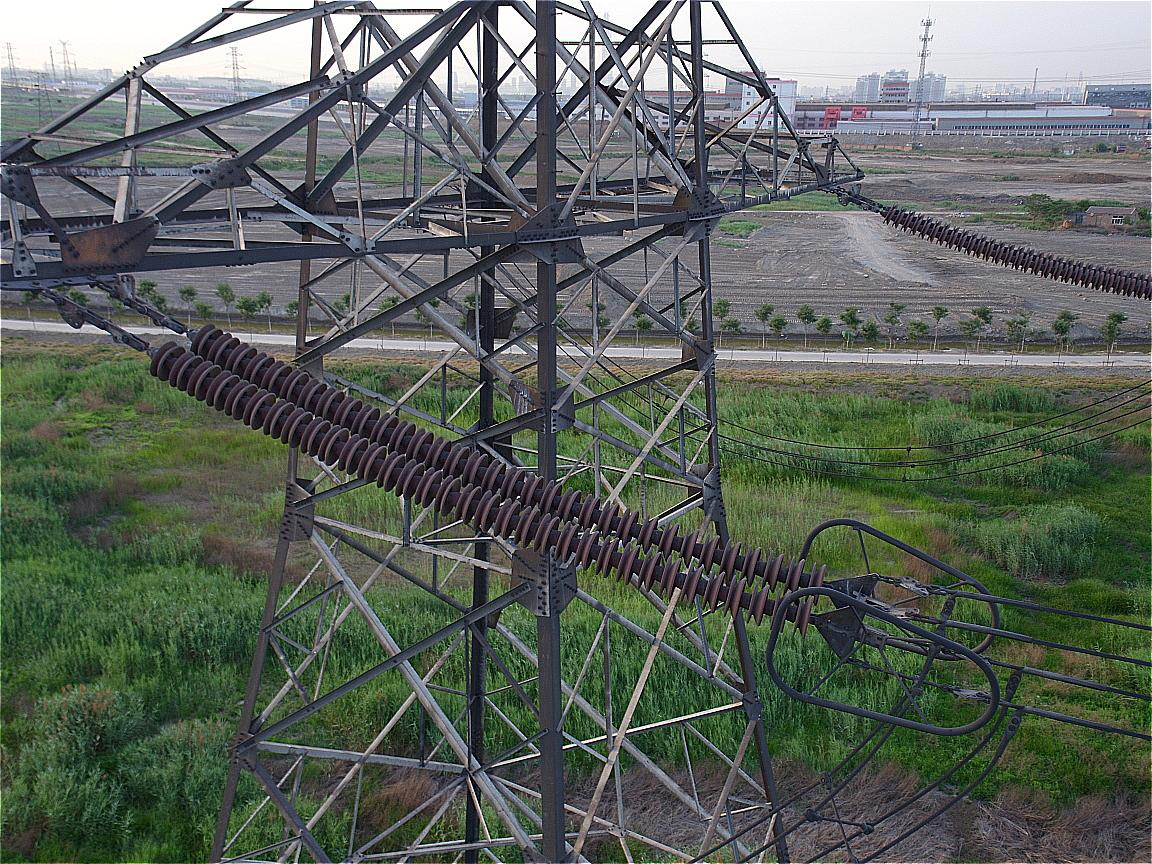insultor2: (137, 302, 836, 641)
